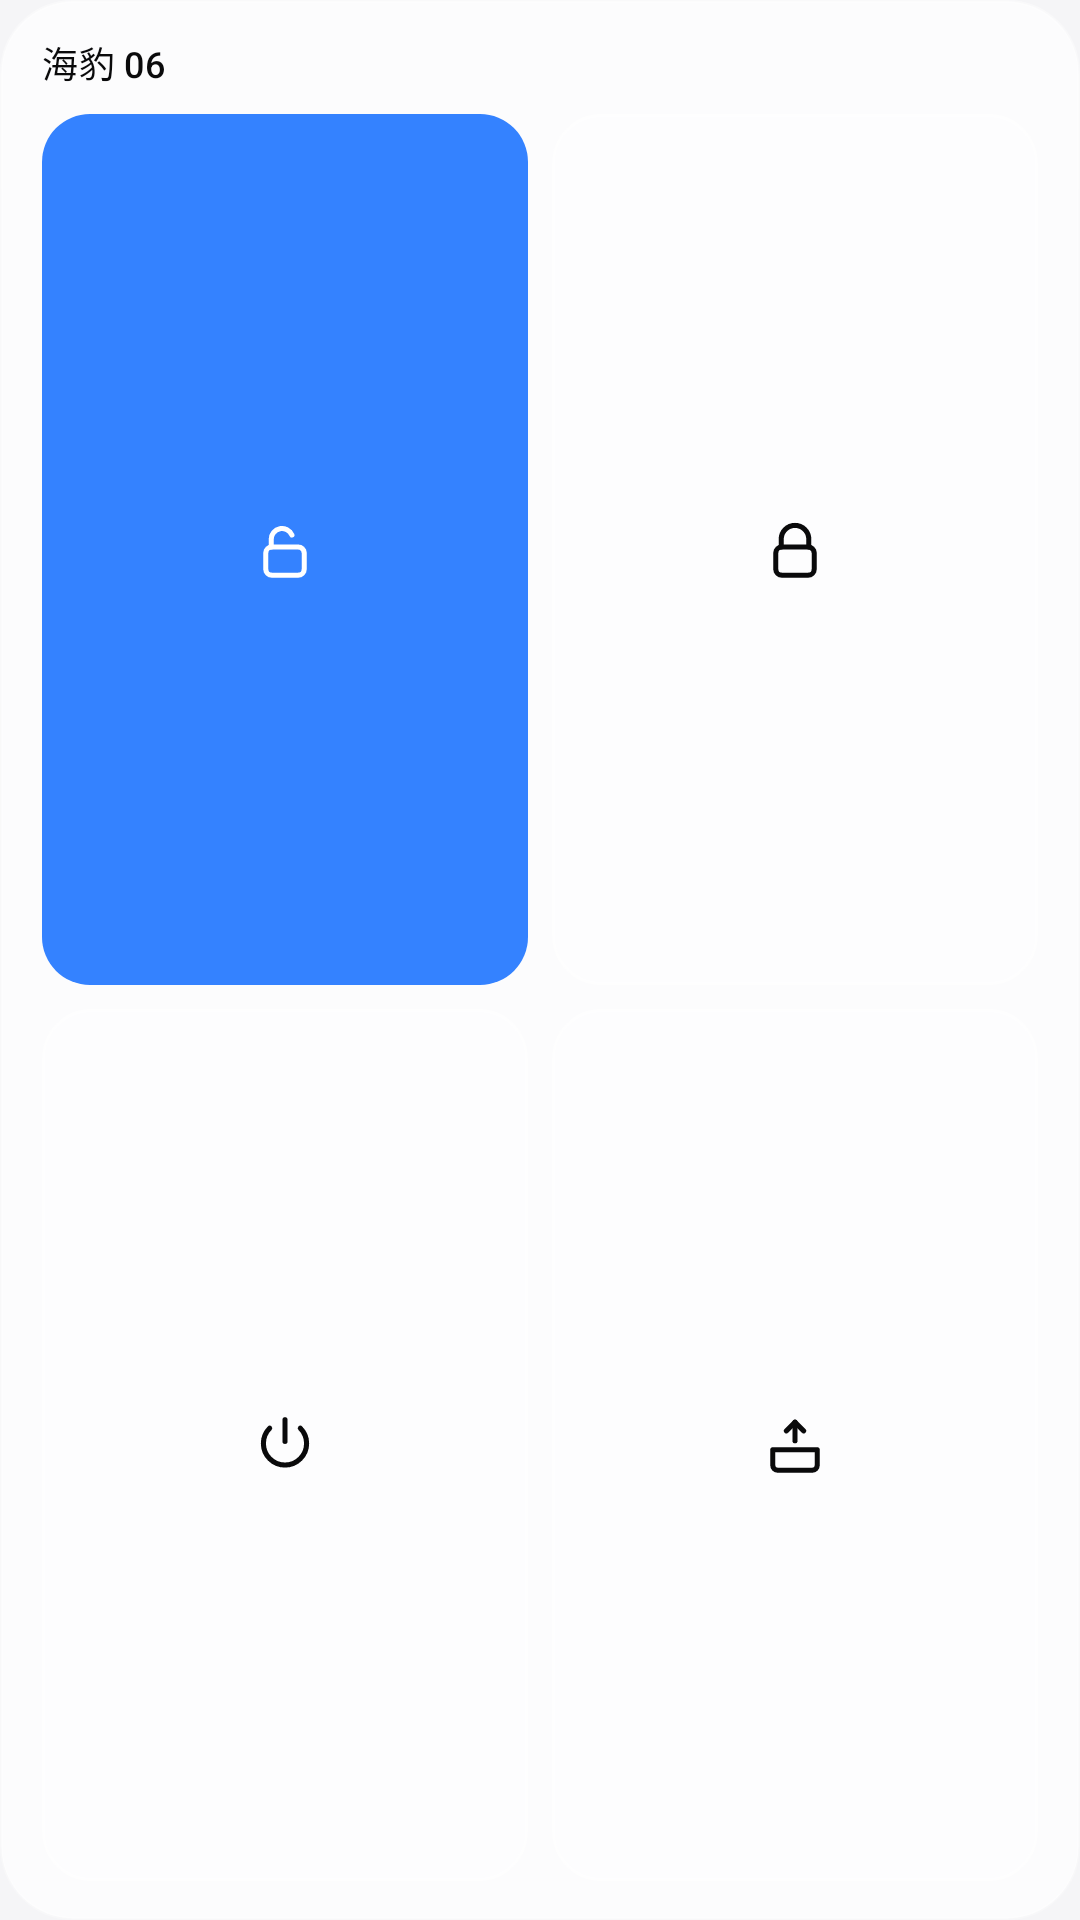

Where icons sit on this 1080 × 1920 app screen, as rect(x1, y1, x2, y2):
lock: rect(773, 523, 817, 578)
power: rect(260, 1417, 310, 1468)
trunk: rect(770, 1419, 820, 1473)
